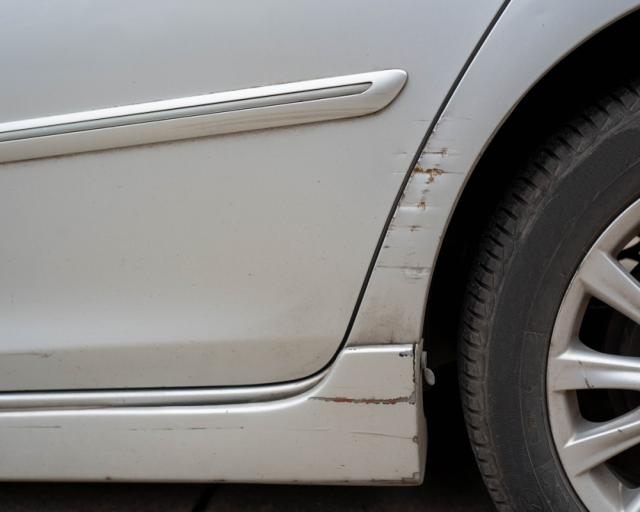scratch: (373, 114, 468, 283), (301, 345, 420, 412)
